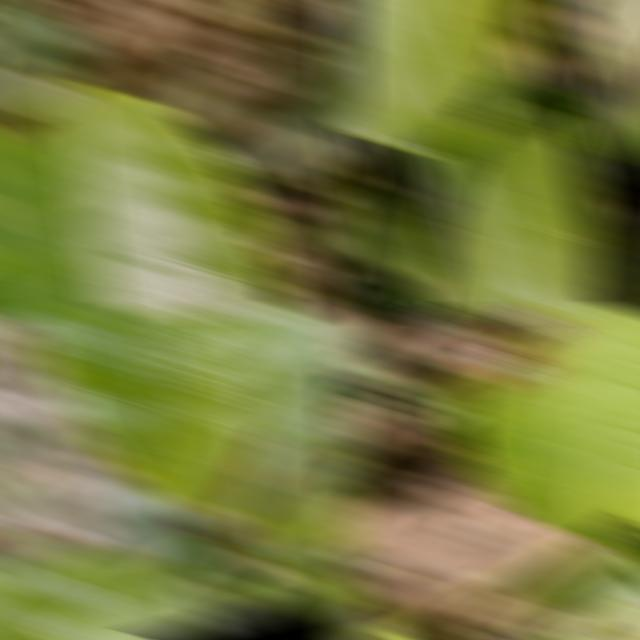Leaf: (0, 81, 295, 316), (14, 310, 271, 518), (450, 310, 640, 544), (412, 103, 619, 316), (334, 0, 539, 150), (235, 310, 356, 526), (207, 55, 356, 184), (0, 550, 202, 640), (495, 531, 640, 640), (258, 438, 356, 558), (0, 0, 77, 112), (140, 55, 229, 131), (250, 559, 356, 616), (334, 581, 416, 640)
